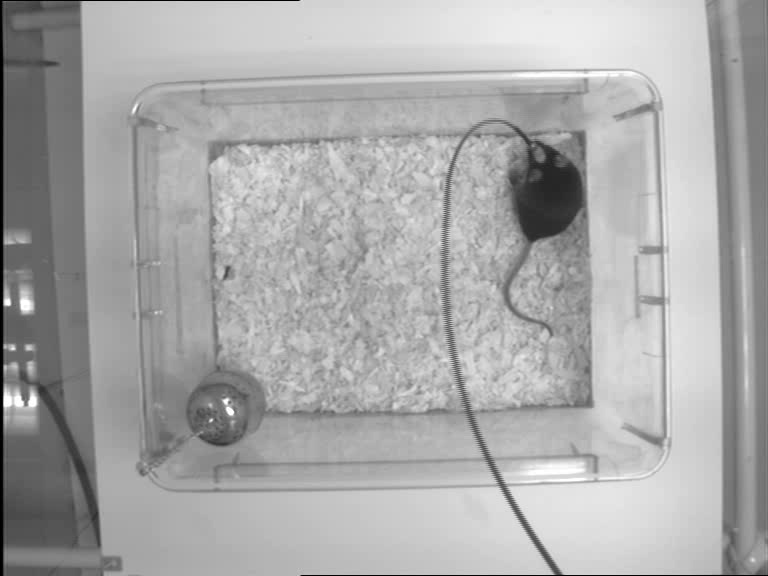mice: (502, 138, 583, 339)
